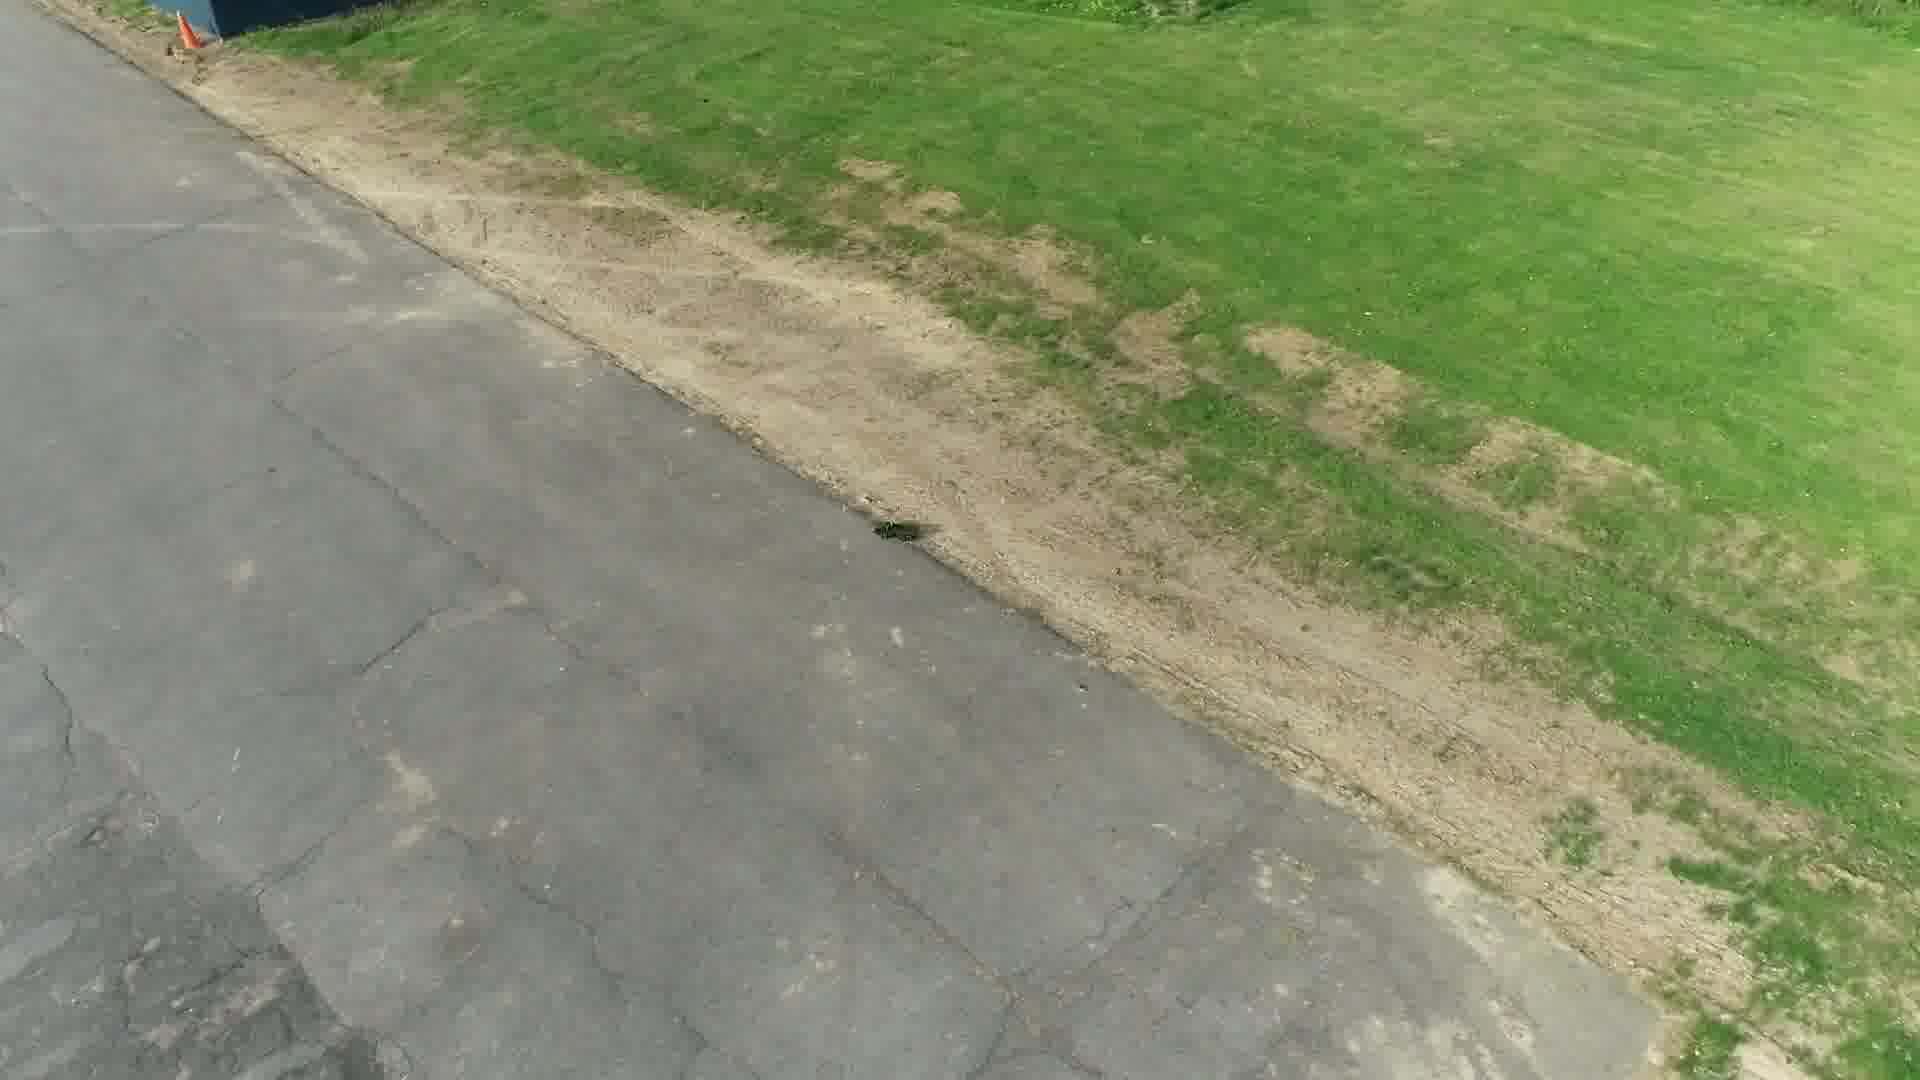transporter9: (869, 520, 920, 542)
